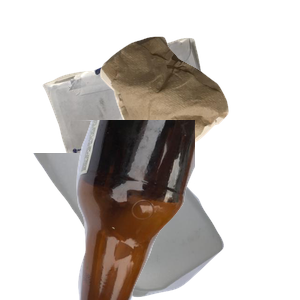glass: (60, 120, 300, 300)
paper: (40, 35, 249, 187)
plastic: (29, 153, 245, 300)
trash: (98, 34, 300, 211)
